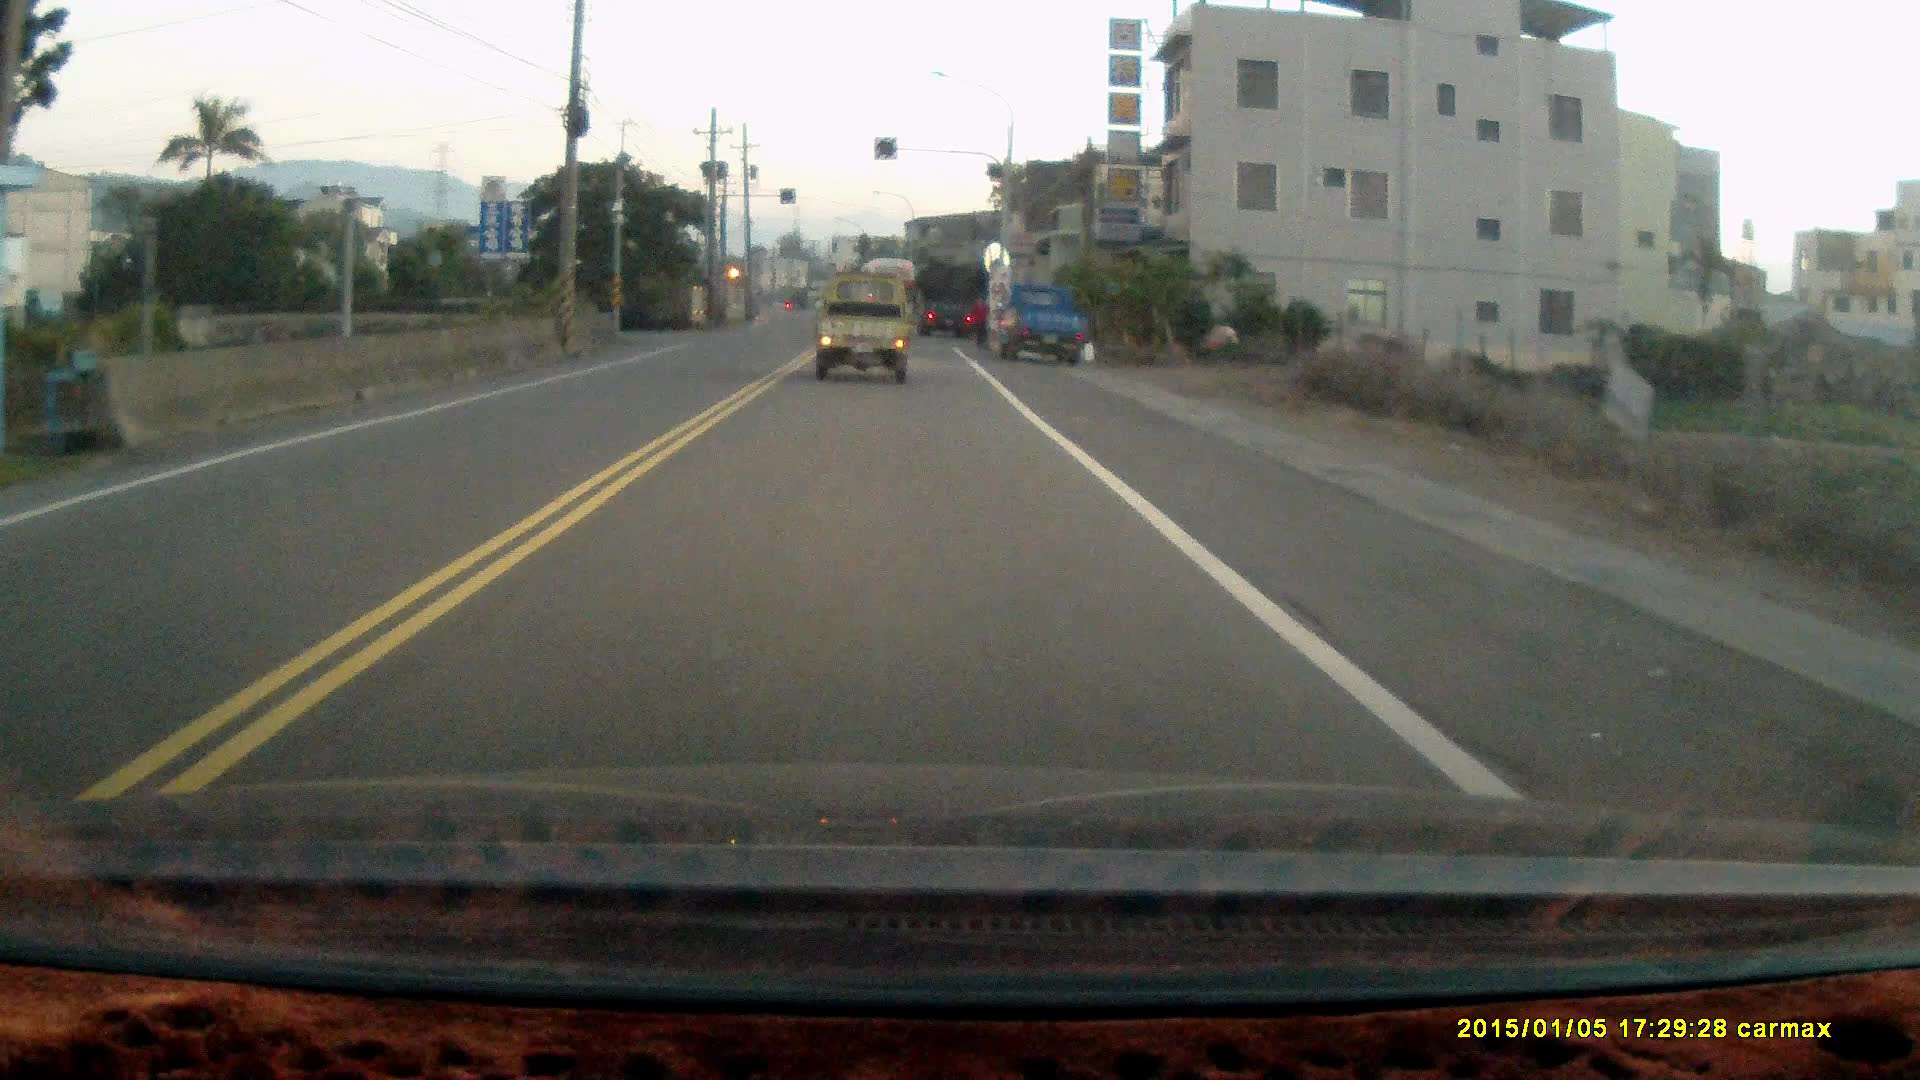vehicle: (812, 273, 916, 386), (992, 276, 1102, 368), (916, 256, 992, 340)
